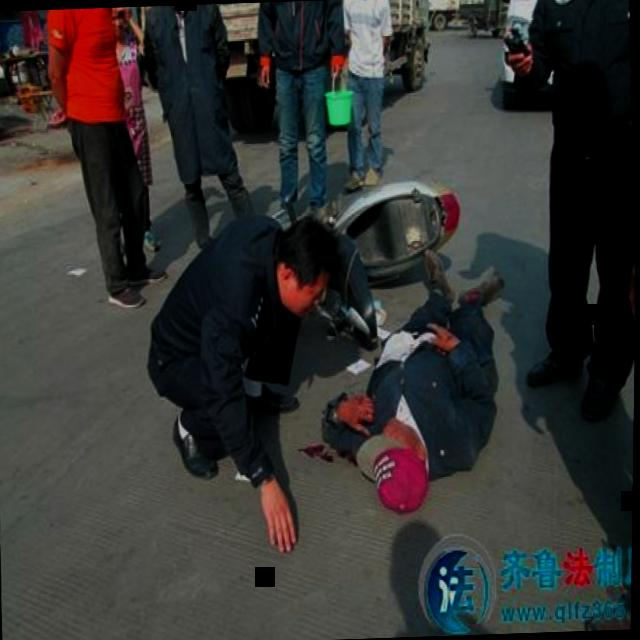Fall-Detected: (302, 240, 515, 524)
